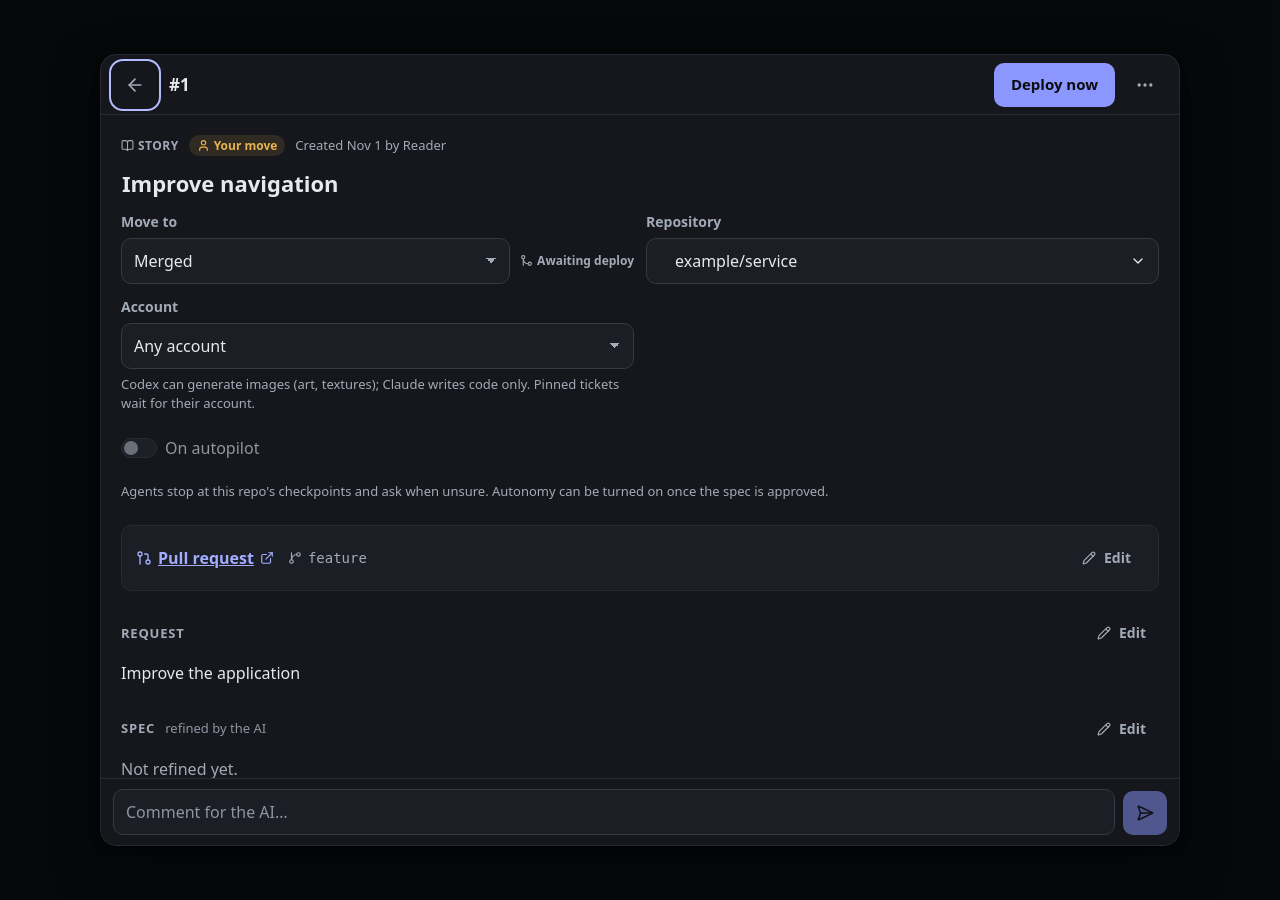
Test case: applies deployment results, reports failures, and restores deployment after Unblock
The width and height of the screenshot is (1280, 900).
Later steps or results of the test are not shown.
What coordinates should you click on to do the following:
click the button "Deploy now"
I would click on:
 (1054, 84)
Its box is [994, 62, 1115, 106].
What coordinates should you click on to do the following:
click the button "Deploy now"
I would click on:
 (1054, 84)
Its box is [994, 62, 1115, 106].
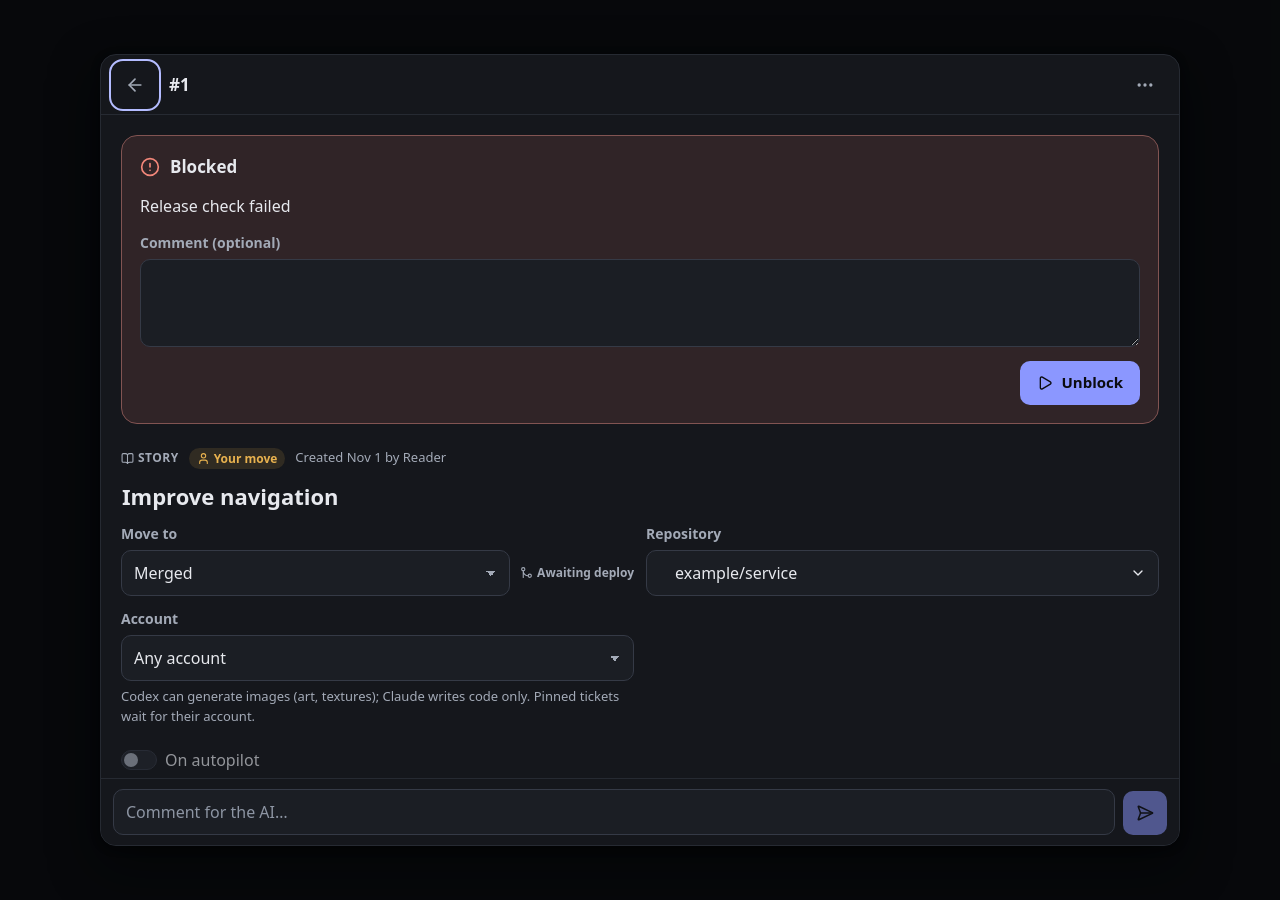
Expected: the text with class "blocked__reason" reads "Release check failed", [140, 194, 290, 216]
